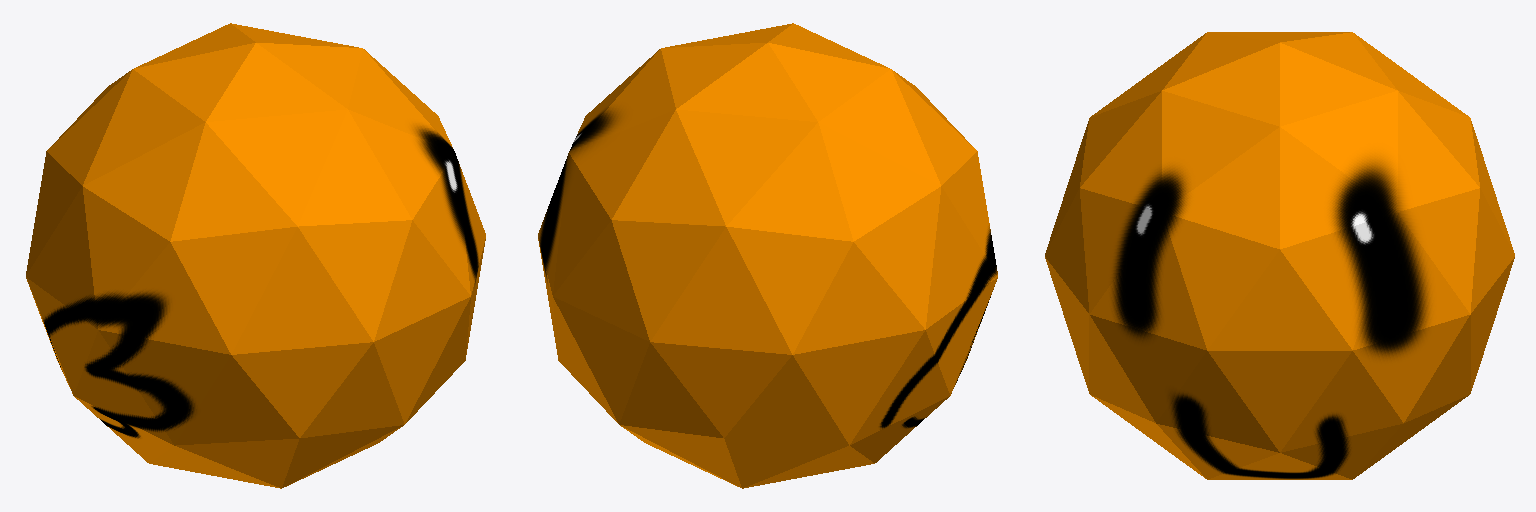
The picture shows the model from 3 angles: view 1: azimuth 30°, elevation 25°; view 2: azimuth 150°, elevation 25°; view 3: azimuth 270°, elevation 25°; orthographic projection.
Parts seen in each view (by area): view 1: Icosphere; view 2: Icosphere; view 3: Icosphere.
Part boxes in pixels (x1,y1,x2,y2): Icosphere: (26, 23, 485, 488); Icosphere: (538, 23, 997, 488); Icosphere: (1045, 32, 1514, 479).
Bounding box in the file's own units: 1.9 × 2 × 2.
1 materials, 1 textured.